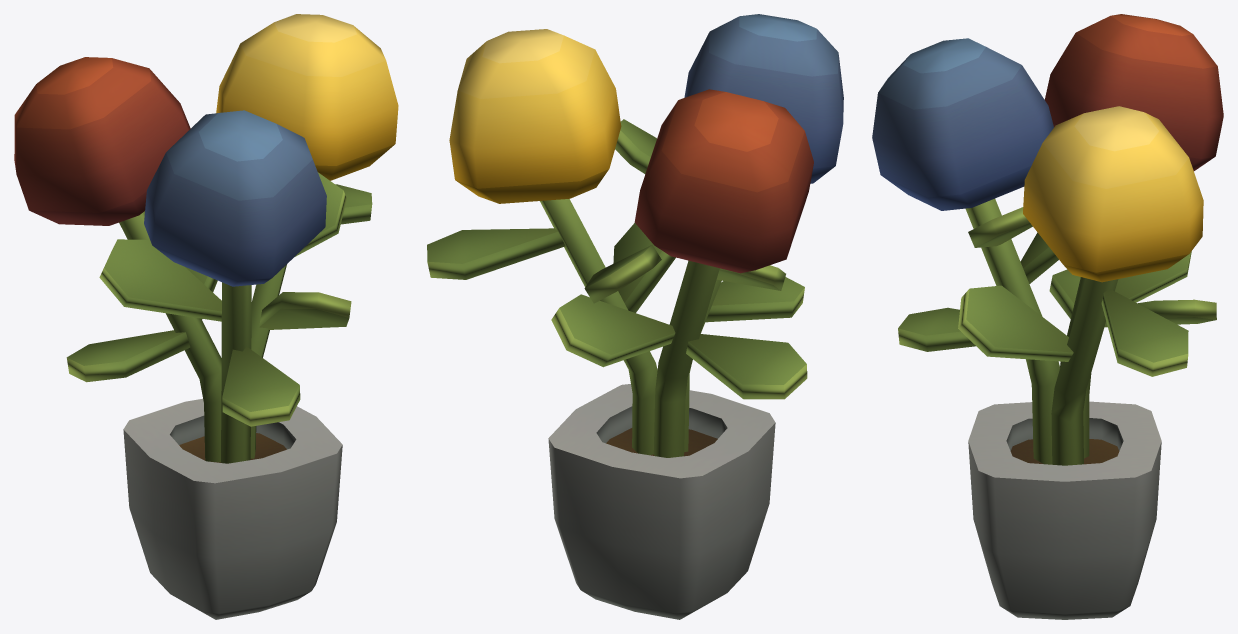
File: flower_bunch_2_all_colours_pot.fbx
The picture shows the model from 3 angles, left to right: view 1: azimuth 30°, elevation 25°; view 2: azimuth 150°, elevation 25°; view 3: azimuth 270°, elevation 25°; orthographic projection. The views are drawn at different scales.
Visible parts, largest first — view 1: flower_bunch_2_all_colours_pot; view 2: flower_bunch_2_all_colours_pot; view 3: flower_bunch_2_all_colours_pot.
Boxes of the visible parts, <box> form: flower_bunch_2_all_colours_pot: <box>14,14,398,619</box>; flower_bunch_2_all_colours_pot: <box>427,14,843,619</box>; flower_bunch_2_all_colours_pot: <box>872,14,1223,619</box>.
Size of the model in its own units: 89.78 by 127 by 76.83.
